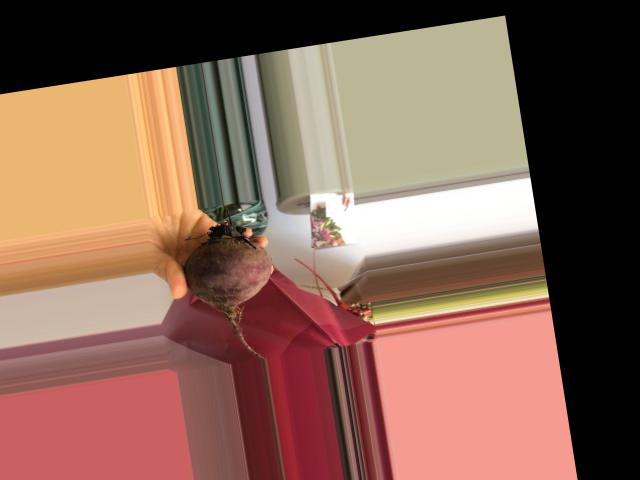beet: (175, 199, 286, 368)
